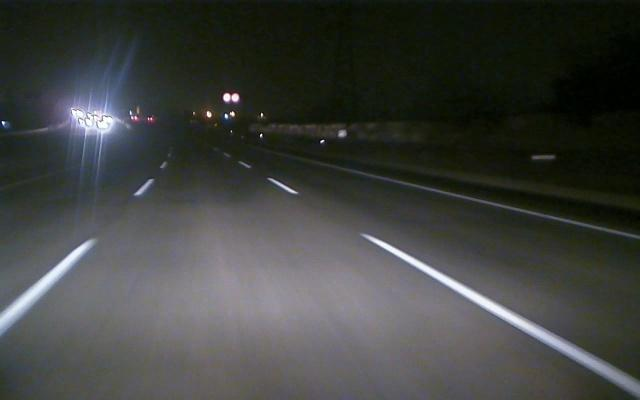lane: (277, 180, 635, 394), (1, 179, 152, 334), (352, 170, 640, 241)
